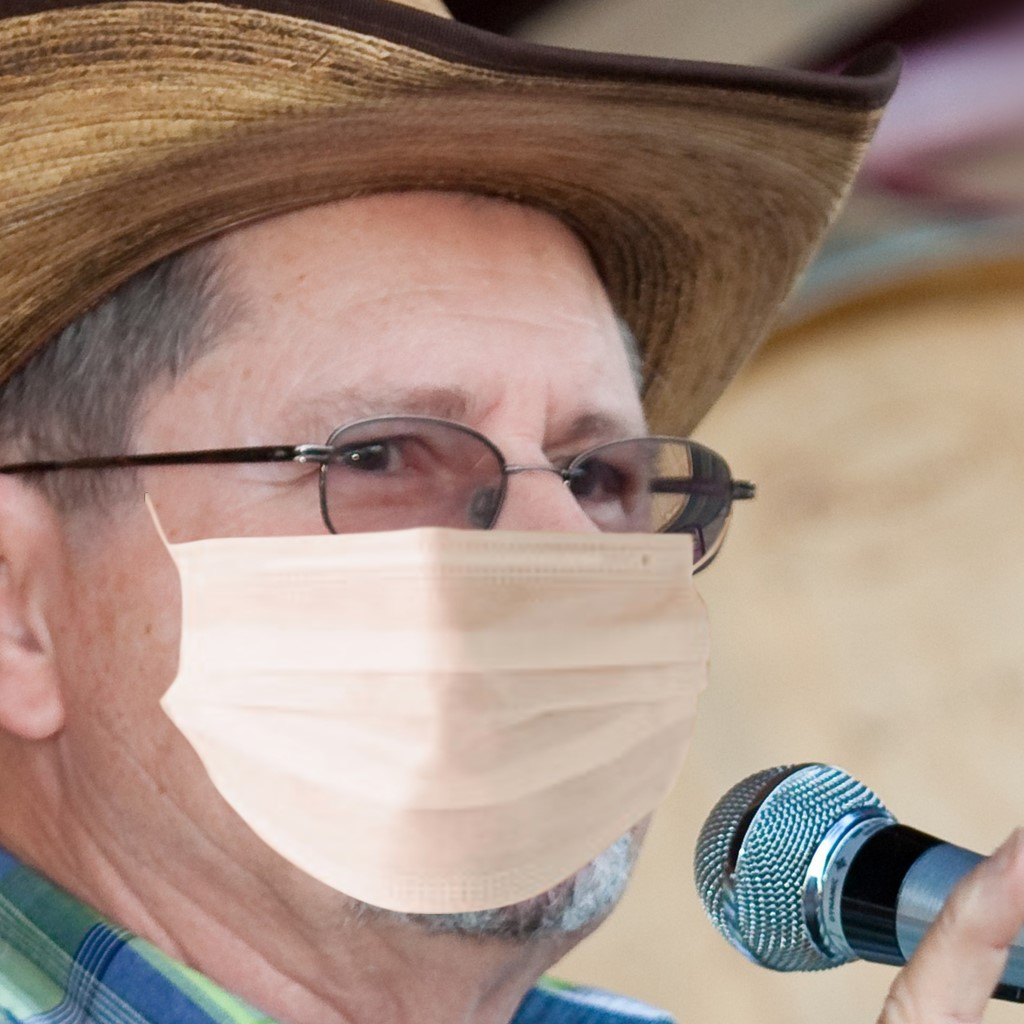con_mascara: (97, 148, 674, 949)
